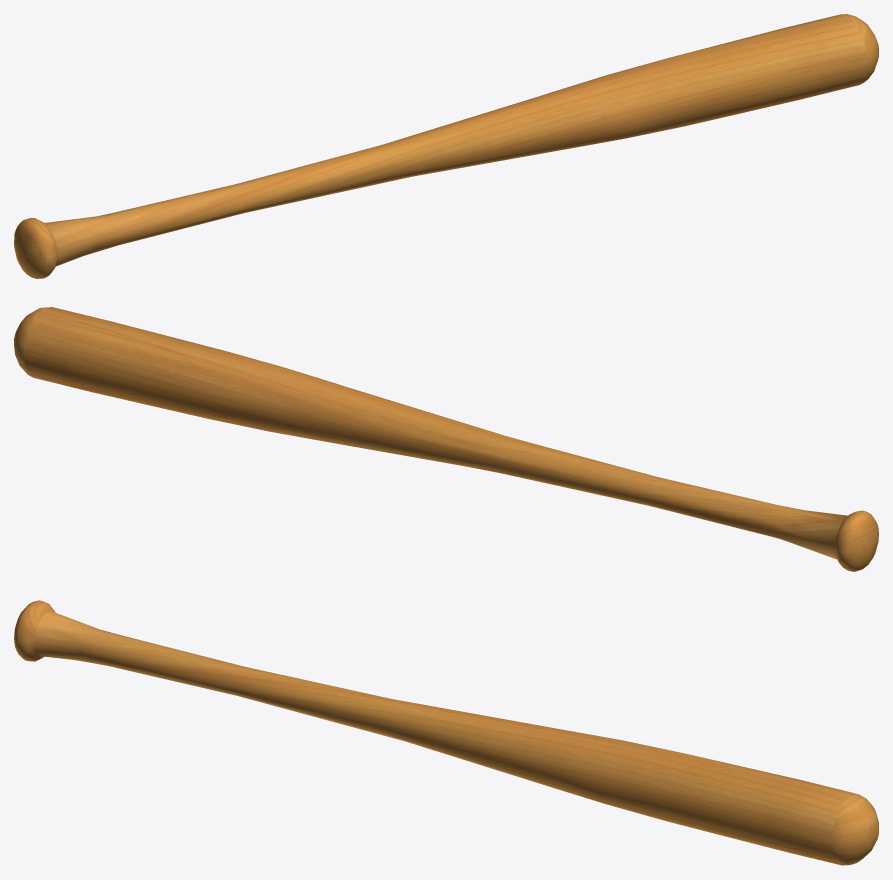
Rendered from Baseball bat.FBX.
3 views of the same model, one above another, from view 1: azimuth 30°, elevation 25°; view 2: azimuth 150°, elevation 25°; view 3: azimuth 330°, elevation 25° (orthographic).
Visible parts, largest first — view 1: Baseball bat; view 2: Baseball bat; view 3: Baseball bat.
Part boxes in pixels (x1,y1,x2,y2): Baseball bat: (14,14,878,278); Baseball bat: (14,307,878,571); Baseball bat: (14,600,878,865).
Size of the model in its own units: 126 by 9.4 by 9.44.
Materials: 1 (1 with a texture image).
